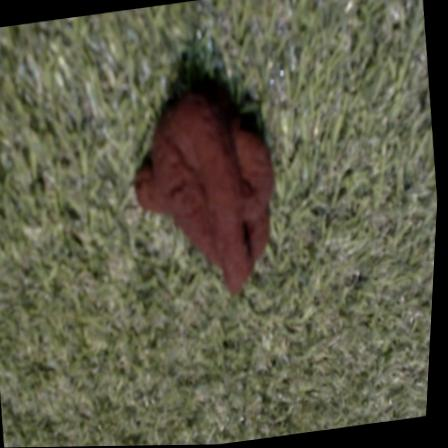dog-poop: (109, 59, 300, 310)
